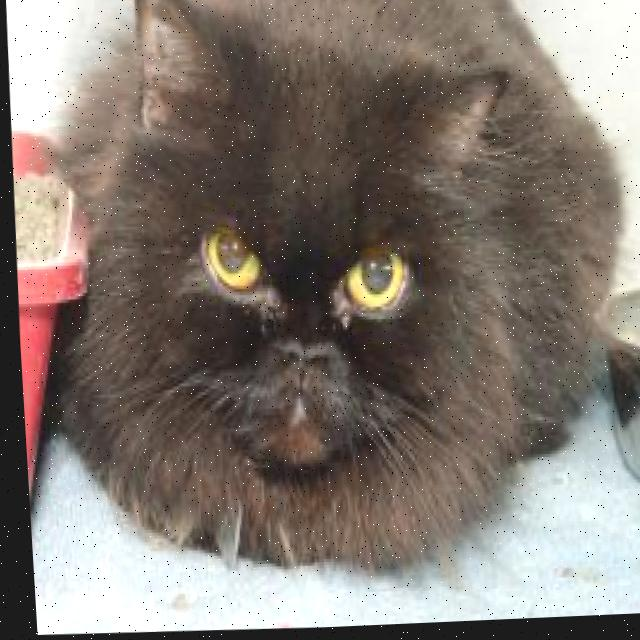Persian: (26, 0, 640, 598)
